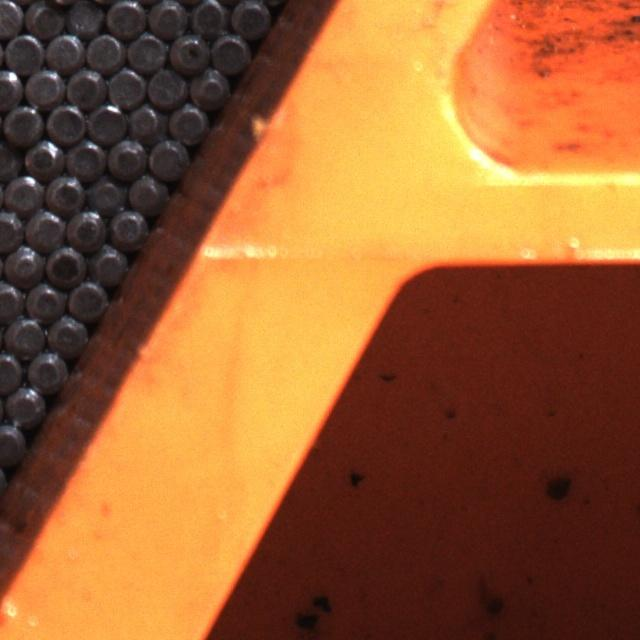tool: (22, 206, 64, 248), (45, 240, 87, 282), (4, 382, 46, 424), (187, 64, 229, 106), (3, 311, 45, 352), (210, 31, 252, 72), (26, 347, 68, 388), (2, 102, 43, 143), (105, 135, 146, 176), (47, 312, 88, 353), (66, 277, 107, 318), (65, 205, 105, 247), (2, 171, 43, 211), (108, 205, 148, 246), (23, 65, 64, 105), (22, 136, 63, 176), (43, 172, 84, 212), (2, 29, 42, 70), (147, 136, 188, 176), (146, 65, 186, 106), (87, 243, 128, 283), (104, 66, 144, 106), (168, 30, 208, 70), (126, 30, 166, 70), (125, 100, 165, 140), (45, 102, 85, 142), (24, 278, 64, 318), (64, 136, 104, 176), (63, 65, 103, 105), (167, 102, 207, 142), (84, 29, 123, 69), (86, 172, 125, 212), (44, 29, 83, 69), (3, 241, 43, 280), (84, 103, 124, 142), (125, 172, 166, 210), (146, 0, 187, 36), (229, 0, 271, 35), (105, 0, 145, 36), (23, 0, 63, 36), (188, 0, 228, 35), (64, 0, 103, 35), (0, 420, 23, 462), (0, 348, 23, 389), (0, 206, 22, 248), (0, 278, 23, 317), (0, 66, 21, 108), (0, 0, 23, 36), (0, 138, 21, 176)
